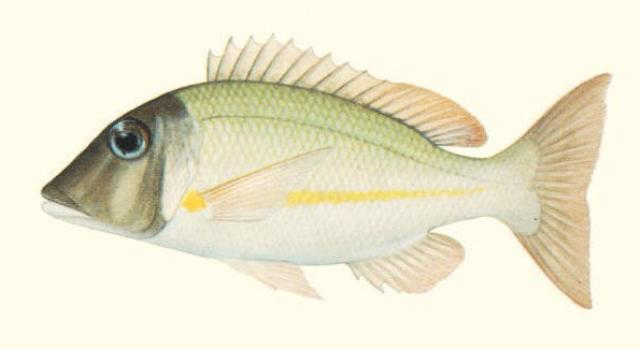Mulut: (27, 170, 102, 243)
Sirip Anal: (340, 226, 476, 304)
Sirip Dada: (170, 142, 366, 235)
Sirip Ekor: (507, 61, 617, 318)
Sirip Perut: (217, 249, 335, 313)
Sirip Punggung: (198, 26, 494, 156)
